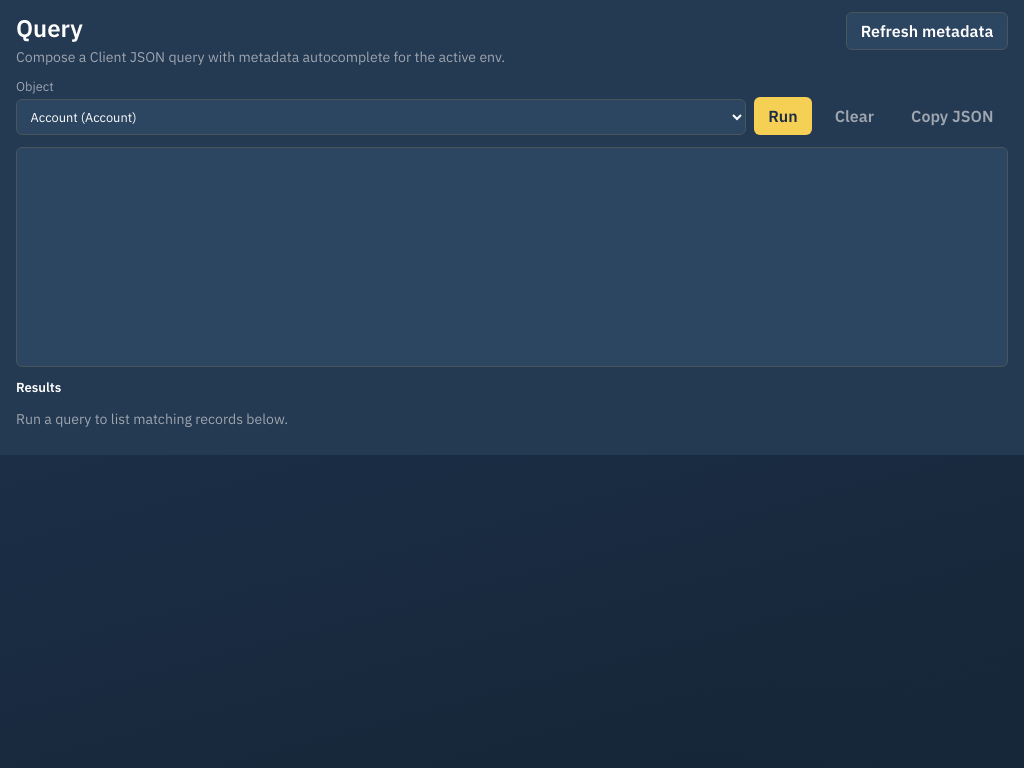
Test: QueryPanel › loads objects and runs a query into the results list
The image size is (1024, 768).
Expected: the dropdown with test id "query-object-select" is shown, left=16, top=99, right=746, bottom=135
Click the button "Run": coordinates (783, 116) left=754, top=97, right=812, bottom=135
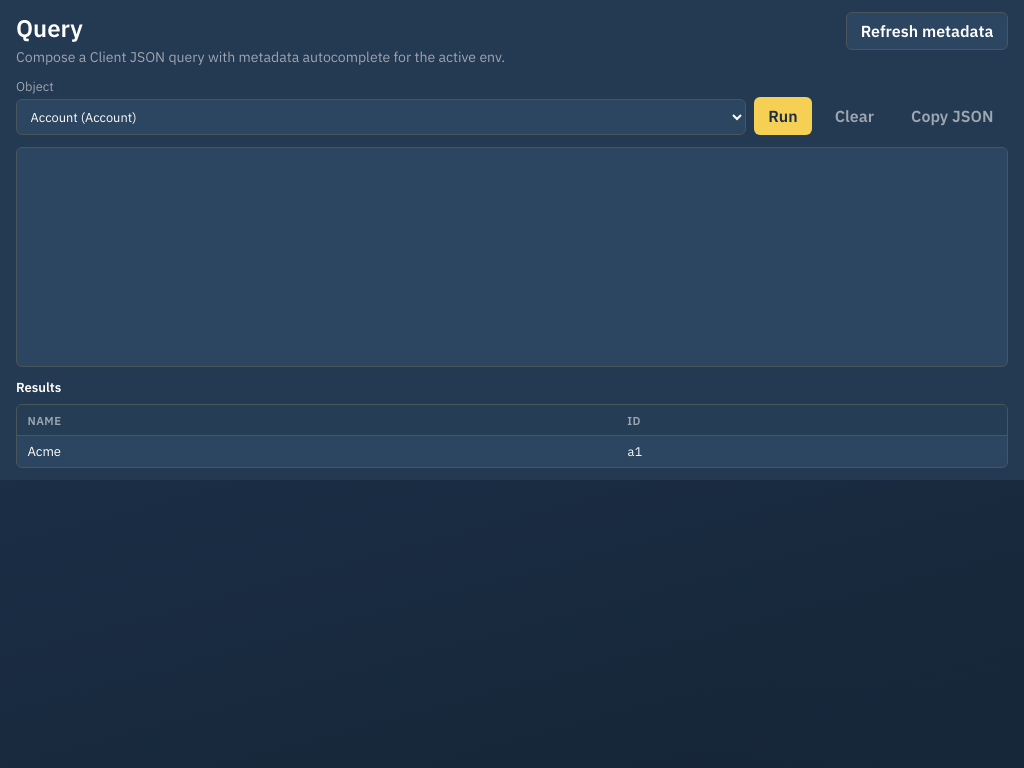
Now the text "Acme" is shown, box left=17, top=435, right=617, bottom=467
Click the button "Clear": coordinates (854, 116) left=820, top=97, right=888, bottom=135
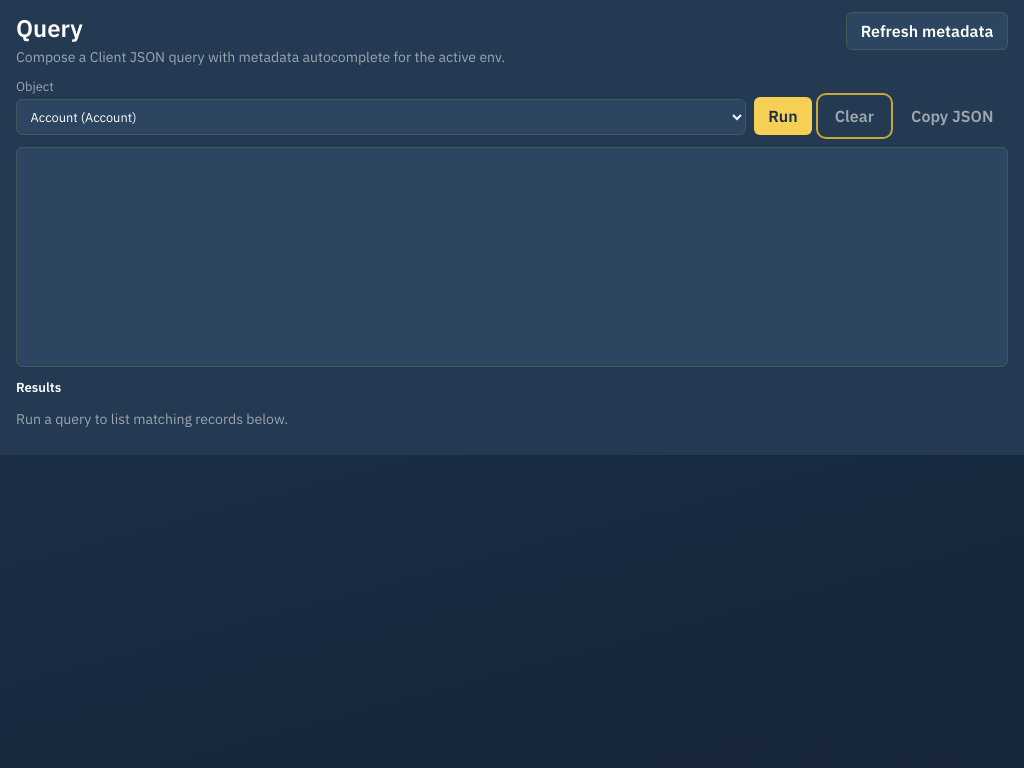
Now the text "Run a query to list matching records below." is shown, box left=16, top=410, right=288, bottom=428
